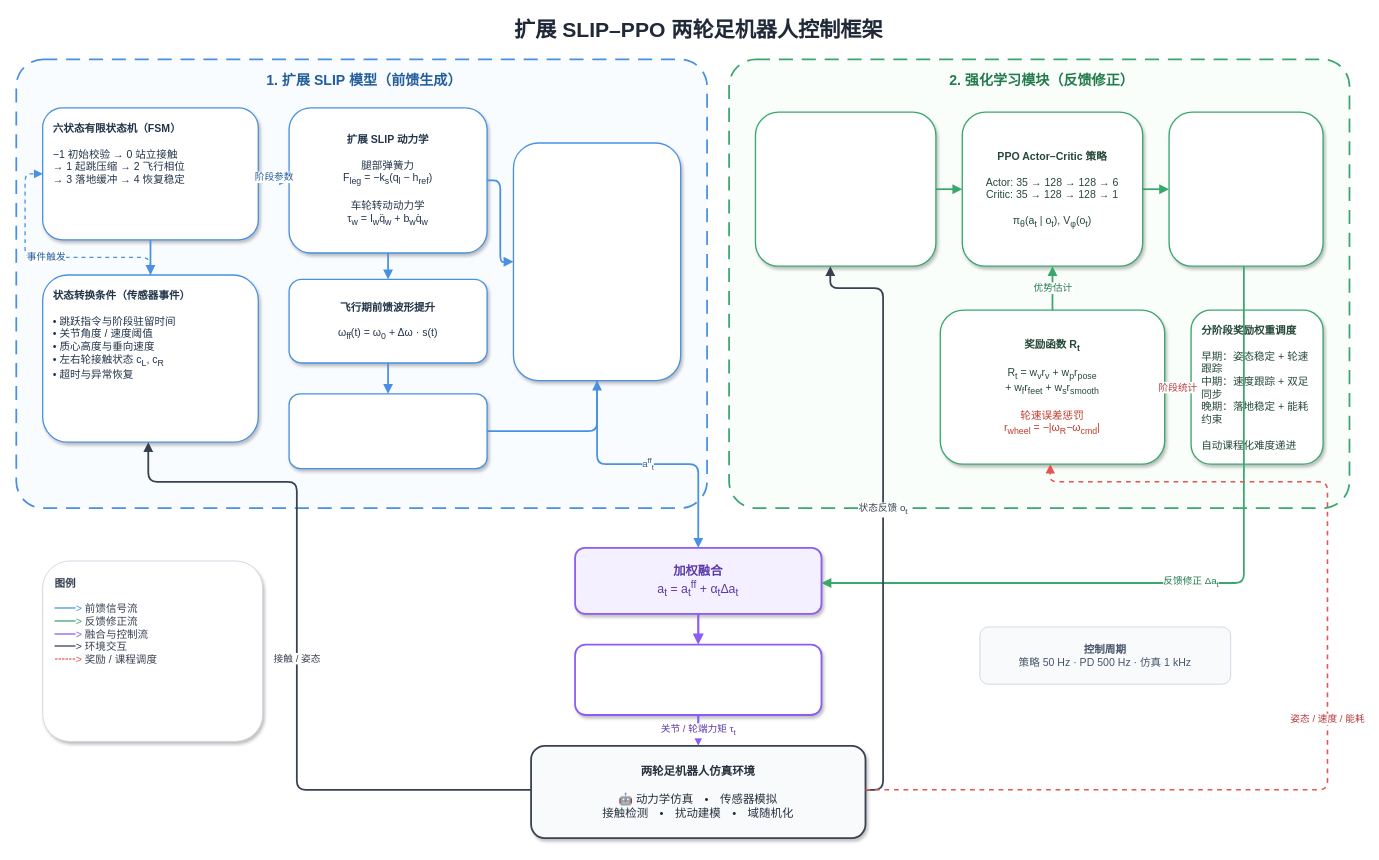
Image size: 1379x860. Some labels were removed from this diagram. Here are the shapes that lost their labels. From the top down, the centre of each, then its label:
At (846,190): "观测向量 o t （35 维） • 基座姿态与角速度 • 关节位置 / 速度 • 左右轮速度 • 接触状态 c L , c R • 当前 FSM 状态".
At (1247,190): "反馈动作修正 Δa t Δa t = [Δq leg , Δω wheel ] 4 个关节位置 2 个轮速修正量".
At (597,262): "SLIP 到关节角 / 轮速映射 ① 逆运动学 q ref = atan2(z, x) ± acos(·) ② 轮速目标 ω ref = v x / r".
At (389,432): "前馈参考轨迹生成 q ff (t), ω ff (t)".
At (698,681): "PD 控制器 τ t = K p (a ref −a t ) + K d (ȧ ref −ȧ t )".
